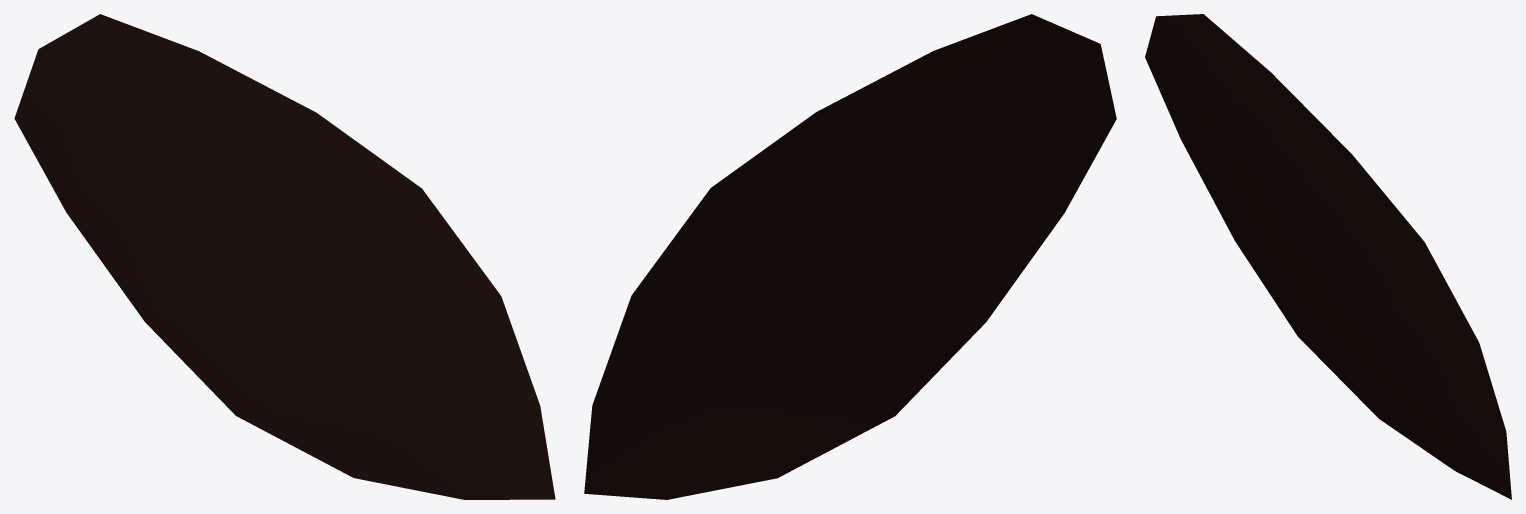
Rendered from hen_feather_flight_secondary_013.obj.
The picture shows the model from 3 angles, left to right: view 1: azimuth 30°, elevation 25°; view 2: azimuth 150°, elevation 25°; view 3: azimuth 330°, elevation 25°; orthographic projection. The views are drawn at different scales.
Parts seen in each view (by area): view 1: feather_flight_secondary_013; view 2: feather_flight_secondary_013; view 3: feather_flight_secondary_013.
Part boxes in pixels (x1,y1,x2,y2): feather_flight_secondary_013: [14, 14, 555, 499]; feather_flight_secondary_013: [584, 14, 1116, 499]; feather_flight_secondary_013: [1145, 14, 1511, 499].
Size of the model in its own units: 0.0432 by 0.0455 by 0.000581.
